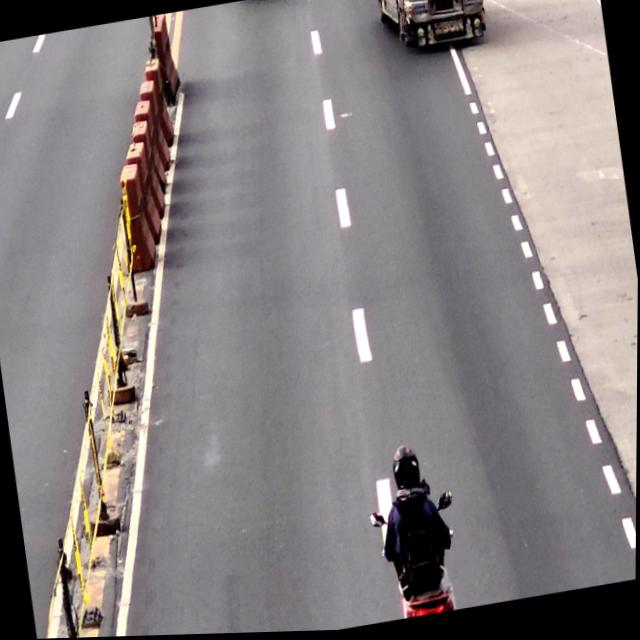Motorcycle: (378, 440, 469, 623)
